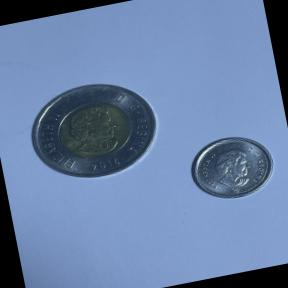Canada-10cent-B: (180, 125, 282, 210)
Canada-2Dollar-B: (18, 70, 170, 192)
